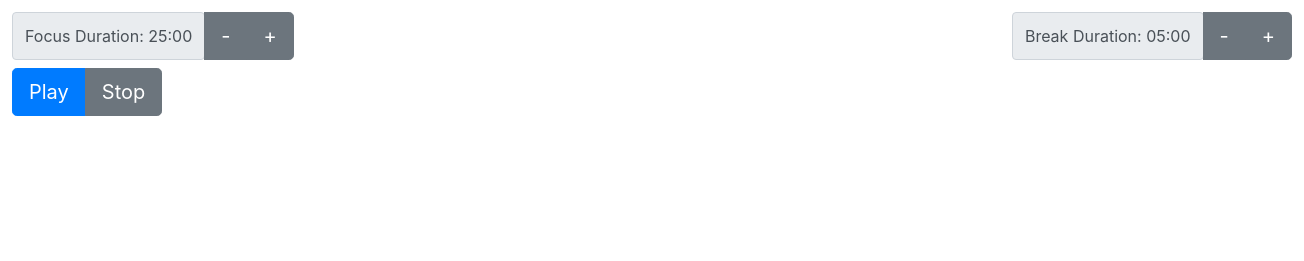
Pomodoro Timer › Session sub-title › displays "24:45 minutes" after 15 seconds have elapsed
This screenshot has width=1304, height=261.
Click the button with test id "play-pause": [49, 92] box [12,68,86,116]
Wait 15000 ms
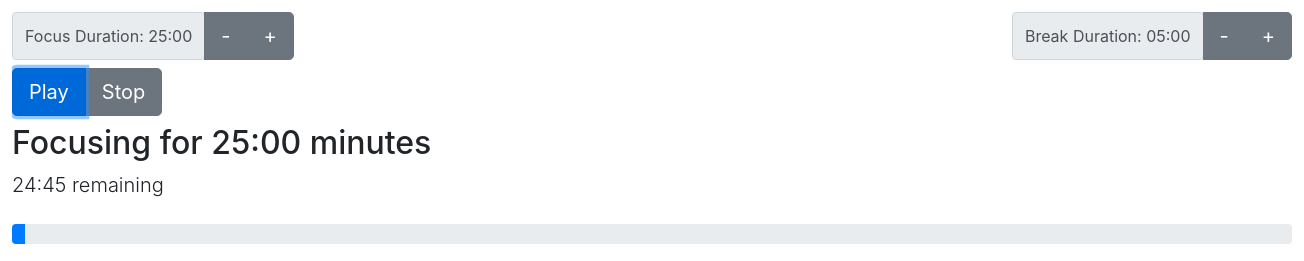
Expected: the text with test id "session-sub-title" reads "24:45 remaining", [12,173,164,197]
